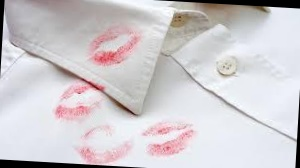lipstick: (89, 21, 141, 73), (142, 128, 197, 168), (81, 133, 135, 167), (46, 96, 97, 128), (57, 77, 109, 105), (143, 114, 191, 140), (87, 120, 117, 141)
